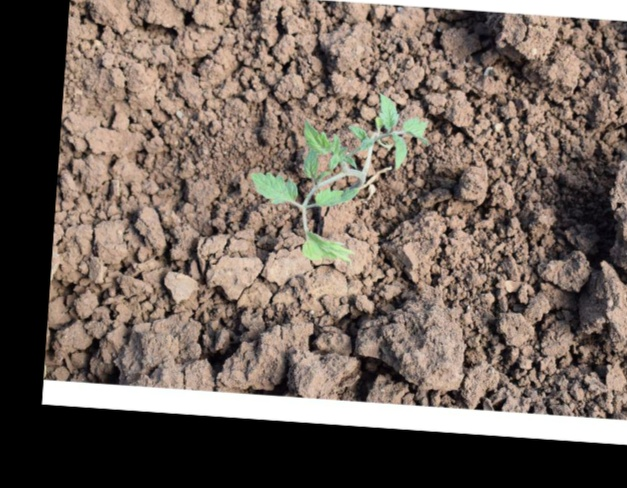tomato: (250, 92, 425, 263)
